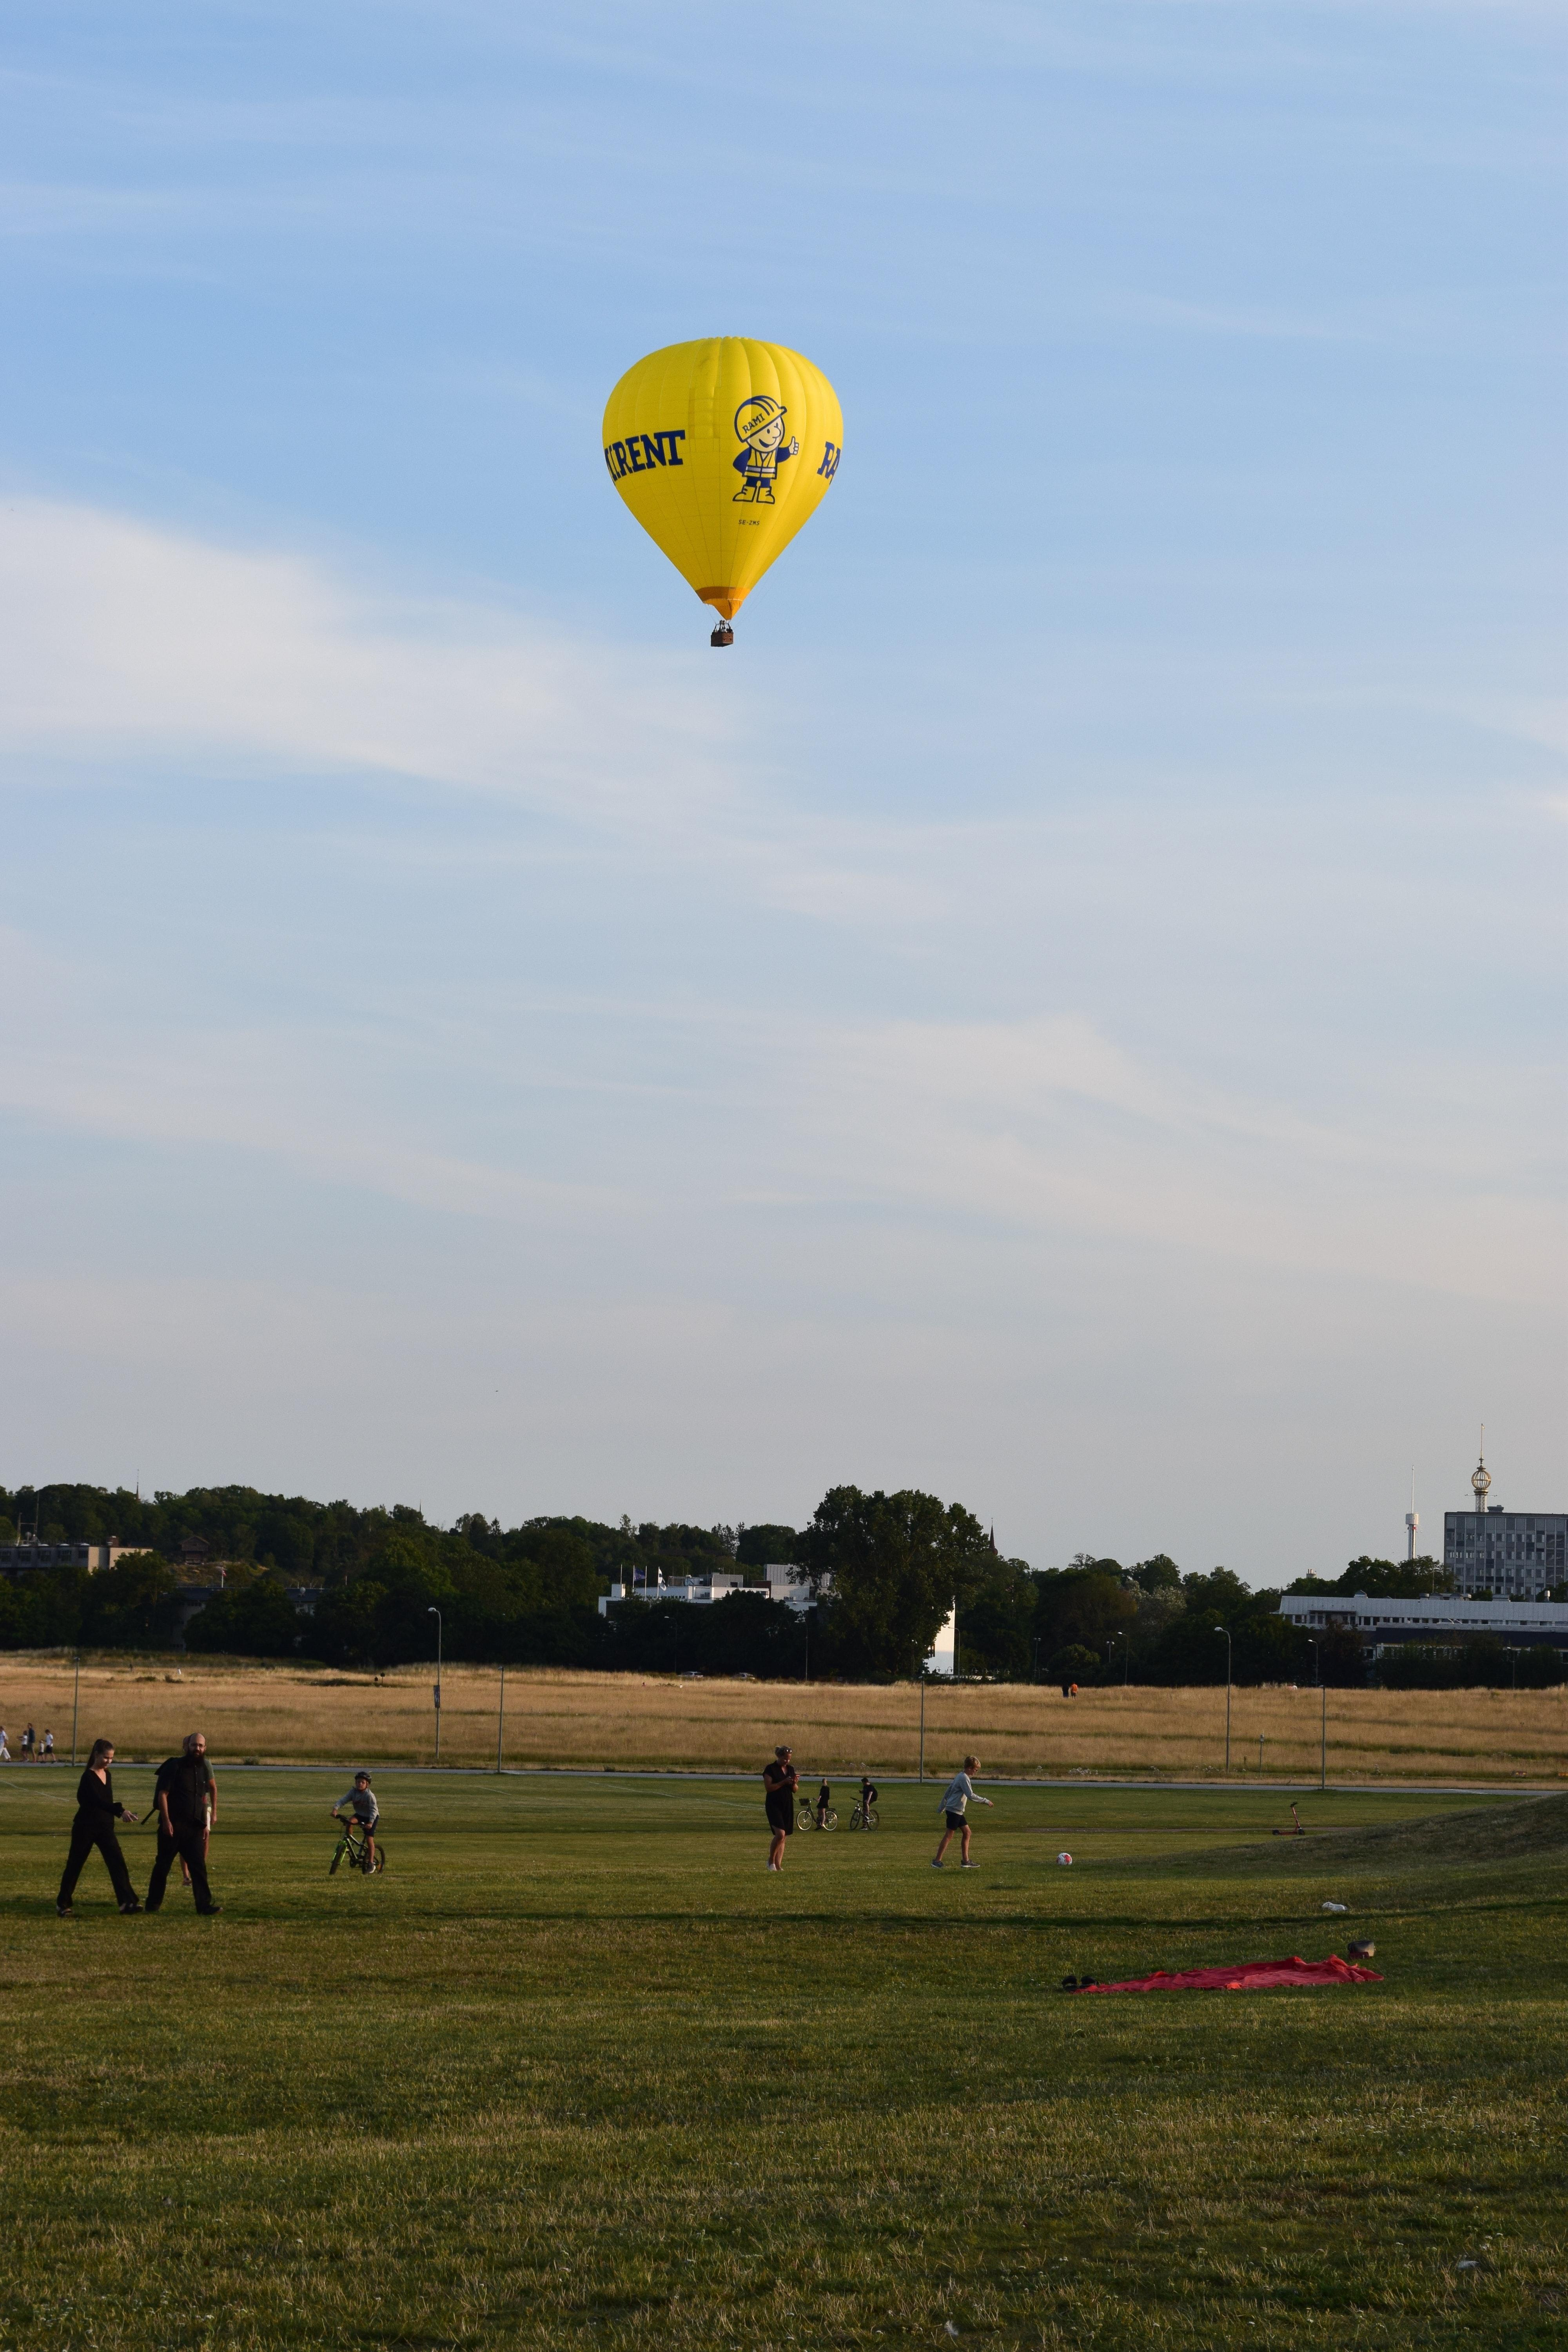hot air ballon: (600, 334, 843, 647)
